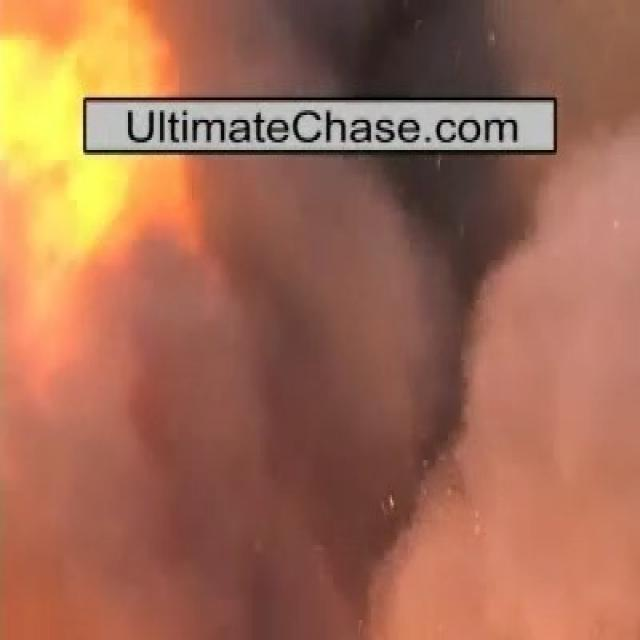smoke: (124, 158, 622, 592), (132, 3, 600, 96)
